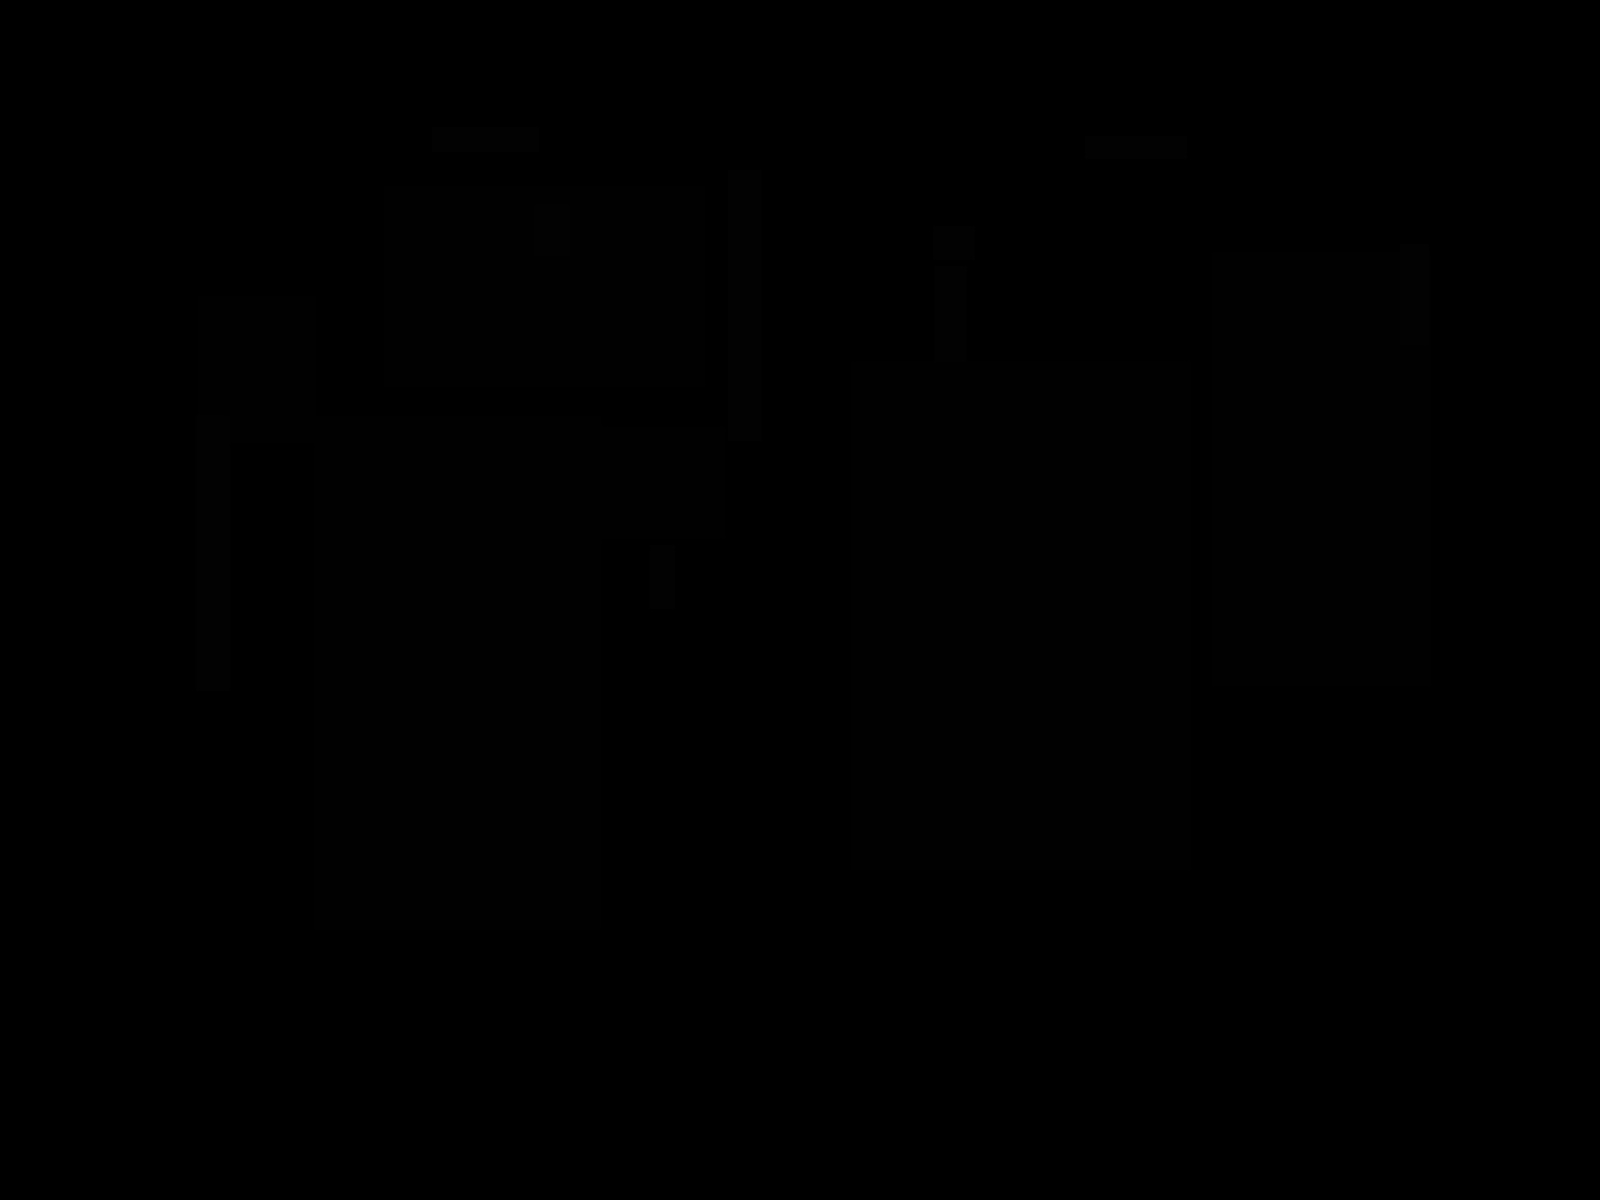1_overall: (86, 59, 1529, 1002)
3_typography: (197, 415, 231, 691), (728, 170, 762, 441), (934, 266, 968, 362), (1400, 245, 1429, 345), (432, 127, 539, 153), (1085, 136, 1187, 159), (534, 204, 569, 256), (650, 545, 675, 609)
4_illustration: (850, 361, 1191, 870), (314, 416, 601, 930), (1212, 252, 1431, 686), (384, 187, 706, 387), (198, 296, 316, 442), (576, 427, 724, 539)
5_stamp: (934, 226, 975, 260)
